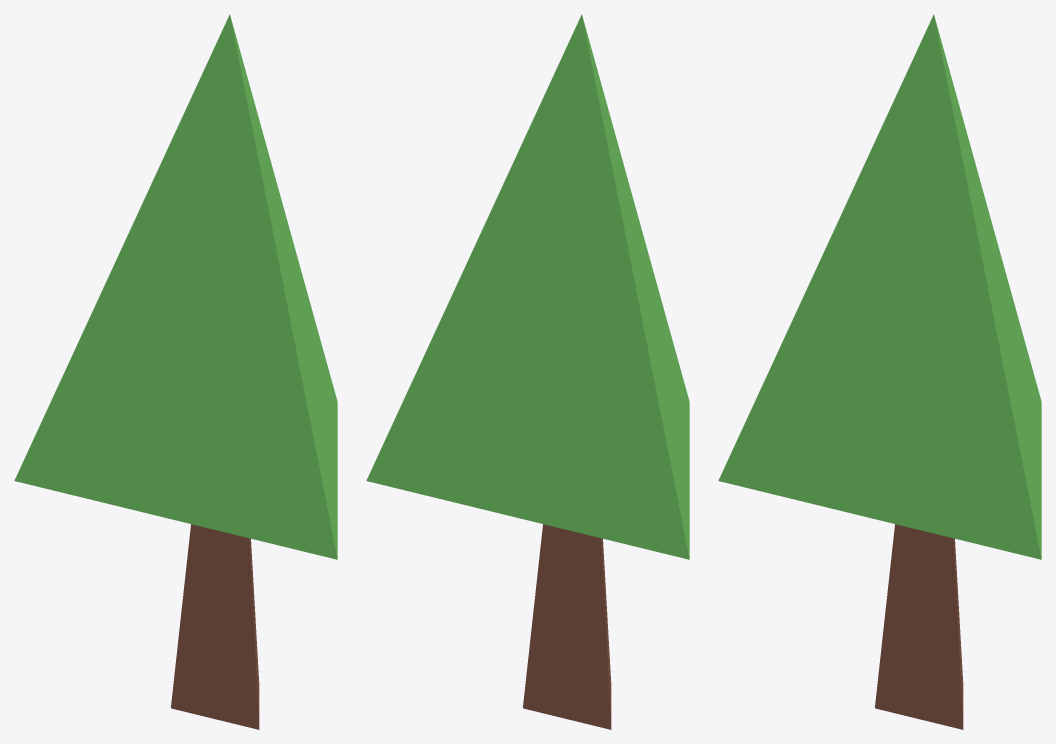
File: tree.fbx
The picture shows the model from 3 angles, left to right: view 1: azimuth 30°, elevation 25°; view 2: azimuth 150°, elevation 25°; view 3: azimuth 270°, elevation 25°; orthographic projection.
Visible parts, largest first — view 1: Cube; view 2: Cube; view 3: Cube.
Part boxes in pixels (left/top/right/bottom): Cube: left=14, top=14, right=337, bottom=729; Cube: left=366, top=14, right=689, bottom=729; Cube: left=718, top=14, right=1041, bottom=729.
Bounding box in the file's own units: 368 × 754 × 318.
